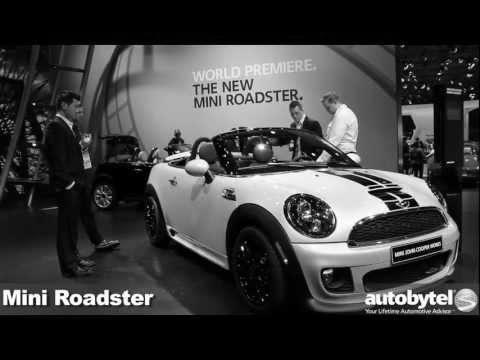car: (143, 127, 461, 316)
